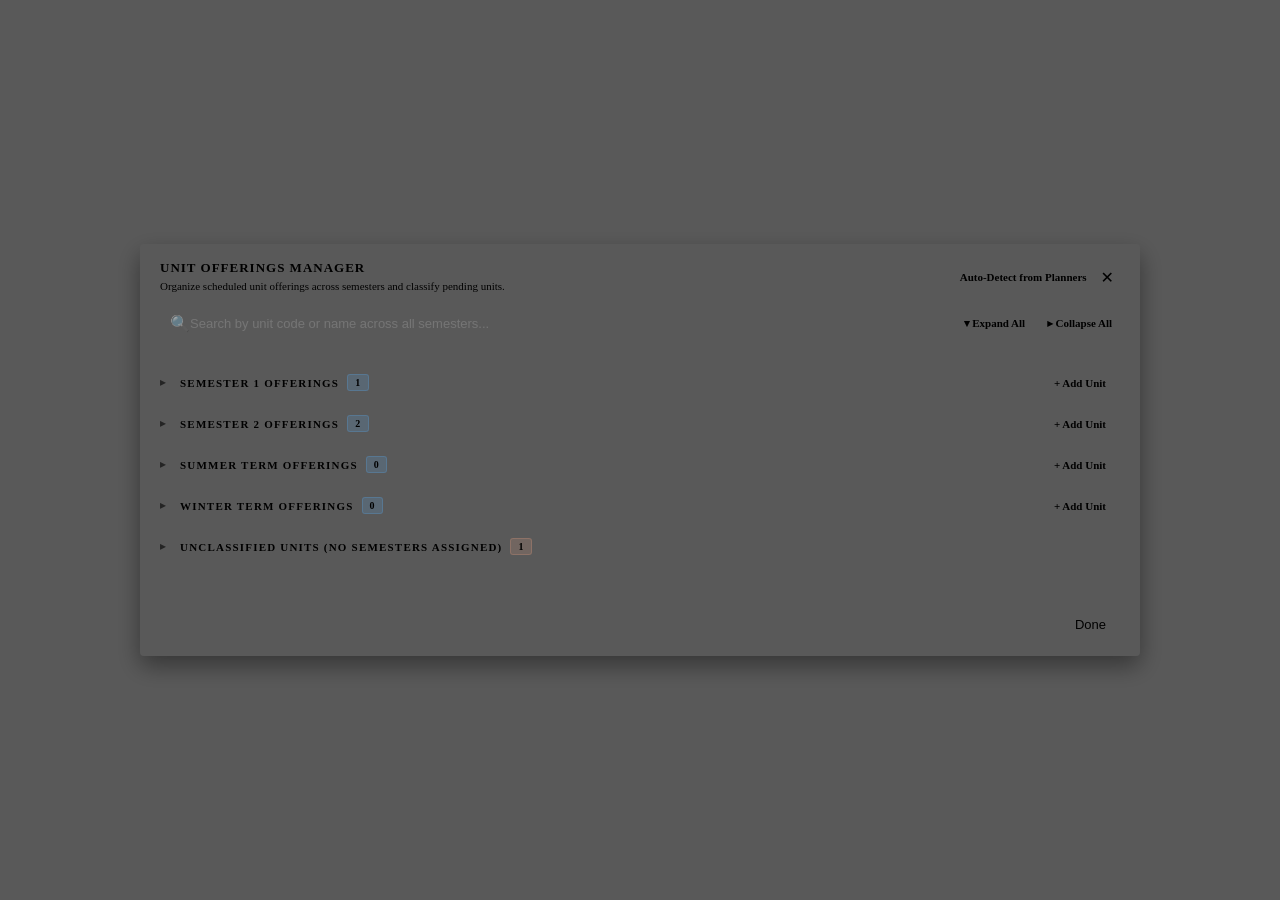
Test: UnitOfferingsModal › Expand All opens every section and Collapse All closes them again
Click the button "▾ Expand All": (995, 323) [956,312,1033,334]
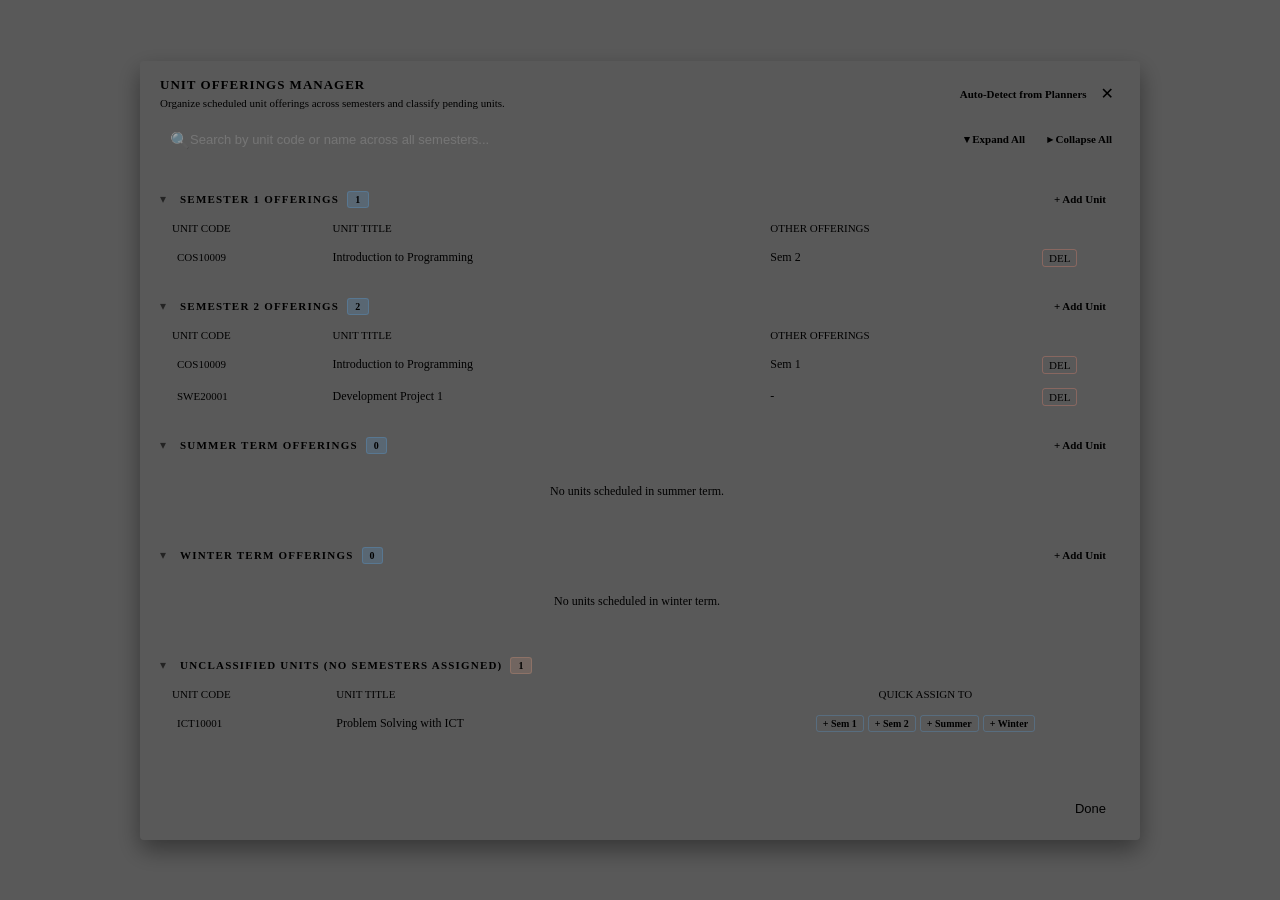
Expected: the text "COS10009" is shown 2 times, [177,251,226,263]; [177,358,226,370]
Expected: the text "ICT10001" is shown, [177,716,222,728]
Click the button "▸ Collapse All": (1080, 140) [1039,129,1120,150]
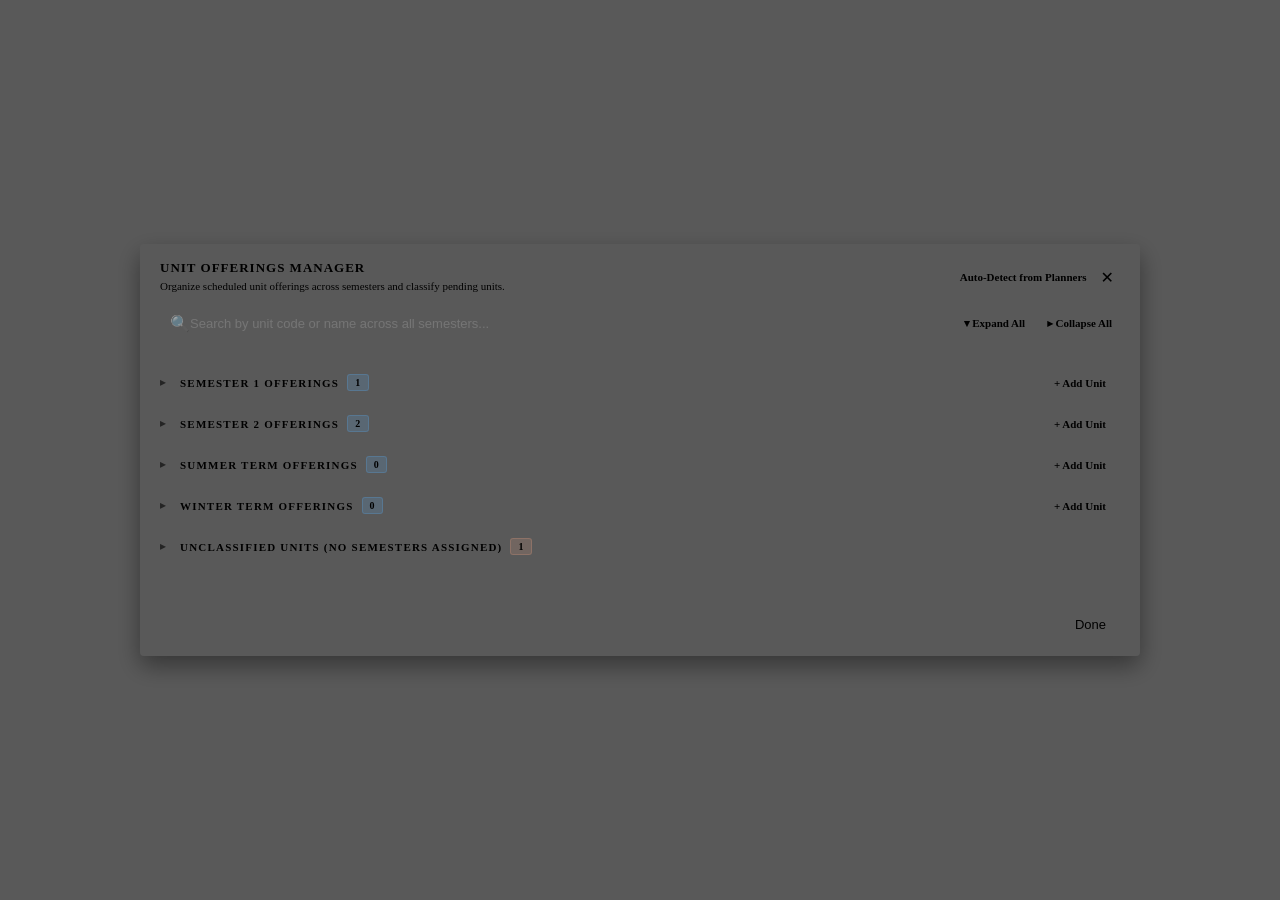
Expected: the text "COS10009" is gone
